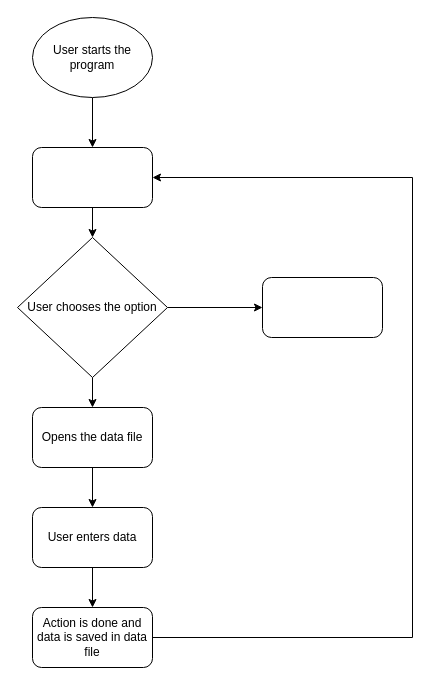
The diagram is 438 pixels wide and 685 high, and some of its shapes have lost their labels. The shapes that lost their labels are listed below. From the top down, each one's centre as x and y in pixels, then its label:
At [92,177]: "User selects the option".
At [322,307]: "Exit the program".
